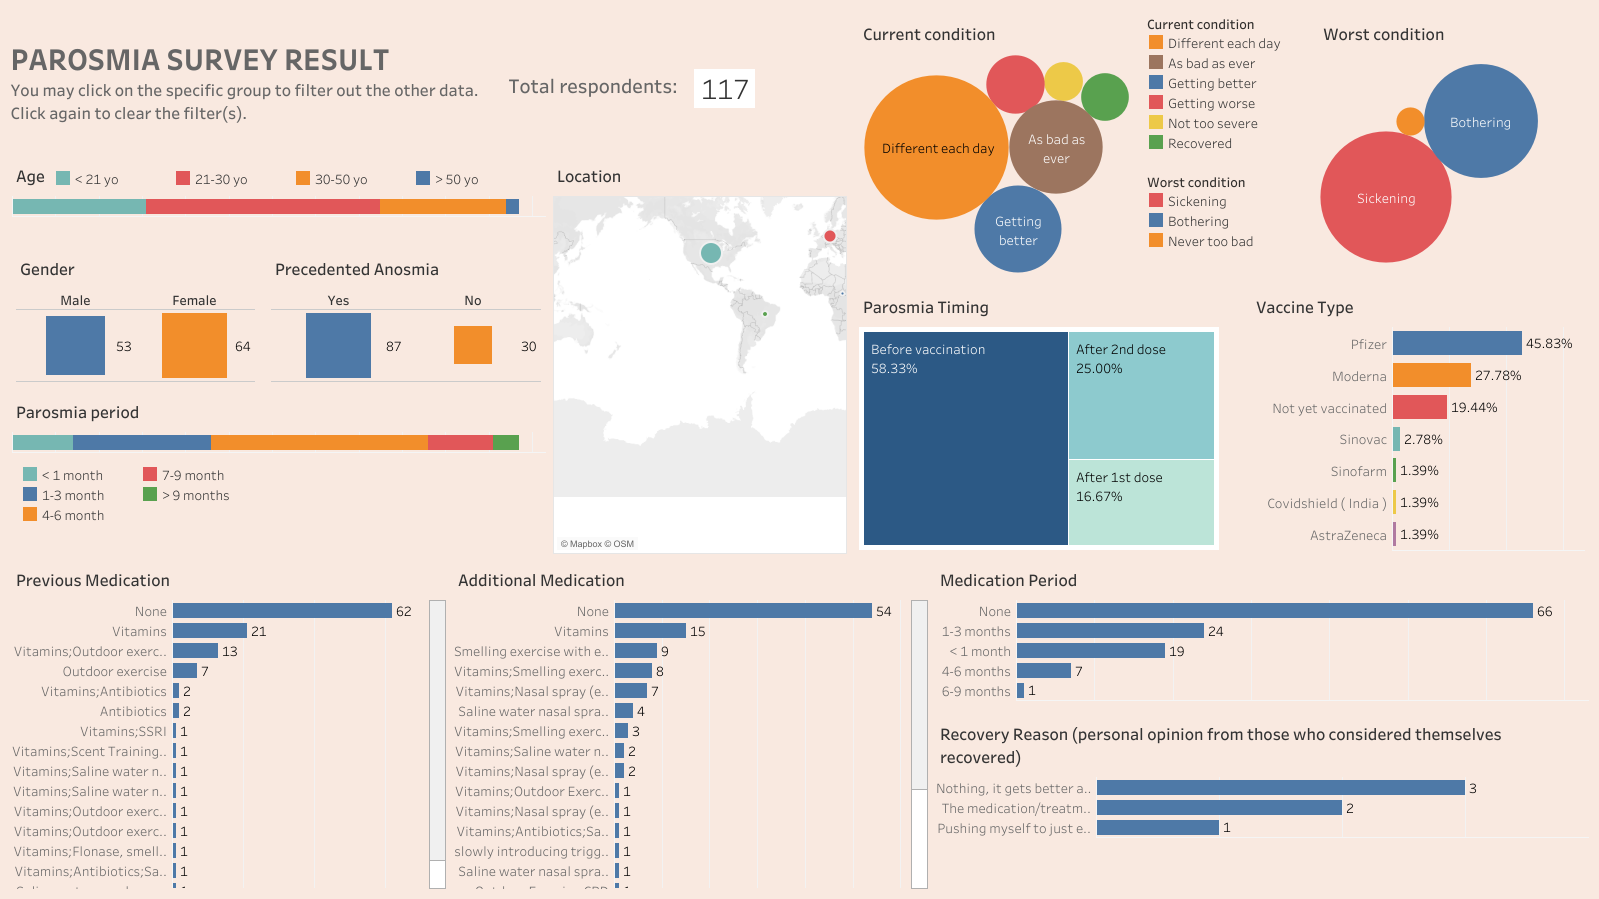

This screenshot's page, from the dashboard's own definition file:
{"tool":"tableau","page":{"name":"Parosmia Survey Result","canvas":[1600,900],"ordinal":0},"visuals":[{"type":"text","box":[8,8,843,145.9]},{"type":"worksheet","title":"Current condition","mark":"Circle","box":[851,8,291,273]},{"type":"legend","title":"Current condition","param":"[federated.1s30syj1lkcwph15itosz0em9zqc].[none:How is parosmia affecting you rig","box":[1142,8,169,158]},{"type":"worksheet","title":"Worst condition","mark":"Circle","box":[1311,8,281,273]},{"type":"text","box":[506,53,237,65]},{"type":"worksheet","title":"Total data","mark":"Automatic","box":[694,69,130,76]},{"type":"worksheet","title":"Age","mark":"Automatic","cols":["Parosmia Survey Form.csv_1E799D1C9F754431AA8BCA6B39818D97"],"box":[8,153.9,541,89.1]},{"type":"worksheet","title":"Location","mark":"Automatic","box":[549,153.9,302,404.1]},{"type":"legend","title":"Worst condition","param":"[federated.1s30syj1lkcwph15itosz0em9zqc].[none:How did your parosmia look like a","box":[1142,166,169,115]},{"type":"legend","title":"Age","param":"[federated.1s30syj1lkcwph15itosz0em9zqc].[none:How old are you?:nk]","box":[53,168,508,32]},{"type":"worksheet","title":"Gender","mark":"Automatic","cols":["What is your gender?"],"box":[8,243,255,147]},{"type":"worksheet","title":"Precedented Anosmia","mark":"Automatic","cols":["Did you experience anosmia before?"],"box":[263,243,286,147]},{"type":"worksheet","title":"Parosmia Timing","mark":"Automatic","box":[851,281,393,277]},{"type":"worksheet","title":"Vaccine Type","mark":"Automatic","rows":["What vaccine did you get?"],"box":[1244,281,348,277]},{"type":"worksheet","title":"Parosmia period","mark":"Automatic","cols":["Parosmia Survey Form.csv_1E799D1C9F754431AA8BCA6B39818D97"],"box":[8,390,541,168]},{"type":"legend","title":"Parosmia period","param":"[federated.1s30syj1lkcwph15itosz0em9zqc].[none:How did it last for you if you ge","box":[20,464,519,77]},{"type":"worksheet","title":"Previous Medication","mark":"Automatic","cols":["Parosmia Survey Form.csv_1E799D1C9F754431AA8BCA6B39818D97"],"box":[8,558,442,334]},{"type":"worksheet","title":"Additional Medication","mark":"Automatic","cols":["Parosmia Survey Form.csv_1E799D1C9F754431AA8BCA6B39818D97"],"box":[450,558,482,334]},{"type":"worksheet","title":"Medication Period","mark":"Automatic","cols":["Parosmia Survey Form.csv_1E799D1C9F754431AA8BCA6B39818D97"],"box":[932,558,660,154]},{"type":"worksheet","title":"Recovery Reason","mark":"Automatic","rows":["What do you think the main reason of your recovery?"],"cols":["Parosmia Survey Form.csv_1E799D1C9F754431AA8BCA6B39818D97"],"box":[932,712,660,180]}]}

Visuals, with their boxes in screenshot pixels (x1, y1, x2, y2), scaled from the page's 1600x900 canvas onto the 1599x899 screenshot:
text: BBox(8, 8, 850, 154)
"Current condition" worksheet (Circle marks): BBox(850, 8, 1141, 281)
"Current condition" legend: BBox(1141, 8, 1310, 166)
"Worst condition" worksheet (Circle marks): BBox(1310, 8, 1591, 281)
text: BBox(506, 53, 743, 118)
"Total data" worksheet: BBox(694, 69, 823, 145)
"Age" worksheet: BBox(8, 154, 549, 243)
"Location" worksheet: BBox(549, 154, 850, 557)
"Worst condition" legend: BBox(1141, 166, 1310, 281)
"Age" legend: BBox(53, 168, 561, 200)
"Gender" worksheet: BBox(8, 243, 263, 390)
"Precedented Anosmia" worksheet: BBox(263, 243, 549, 390)
"Parosmia Timing" worksheet: BBox(850, 281, 1243, 557)
"Vaccine Type" worksheet: BBox(1243, 281, 1591, 557)
"Parosmia period" worksheet: BBox(8, 390, 549, 557)
"Parosmia period" legend: BBox(20, 463, 539, 540)
"Previous Medication" worksheet: BBox(8, 557, 450, 891)
"Additional Medication" worksheet: BBox(450, 557, 931, 891)
"Medication Period" worksheet: BBox(931, 557, 1591, 711)
"Recovery Reason" worksheet: BBox(931, 711, 1591, 891)
